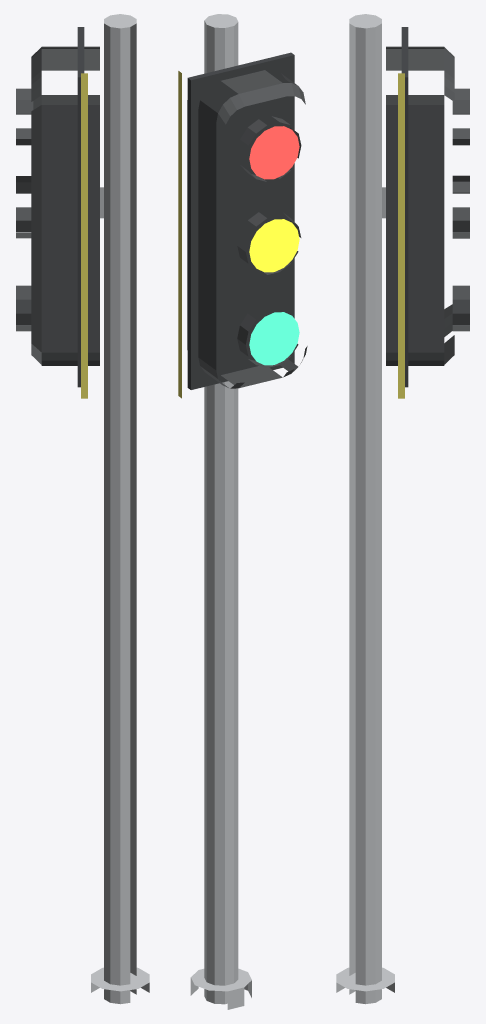
Rendered from signal_head_3.glb.
3 views of the same model, side by side, from view 1: azimuth 90°, elevation 25°; view 2: azimuth 210°, elevation 25°; view 3: azimuth 270°, elevation 25° (orthographic).
Visible parts, largest first — view 1: signal_head_3; view 2: signal_head_3; view 3: signal_head_3.
Boxes of the visible parts, bbox=[...] form: signal_head_3: bbox=[16, 14, 149, 1004]; signal_head_3: bbox=[178, 14, 307, 1009]; signal_head_3: bbox=[336, 14, 469, 1004].
Size of the model in its own units: 0.4 by 3.15 by 0.3955.
